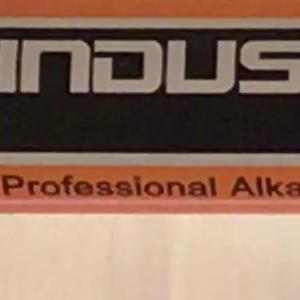ALK: (221, 167, 273, 206)
